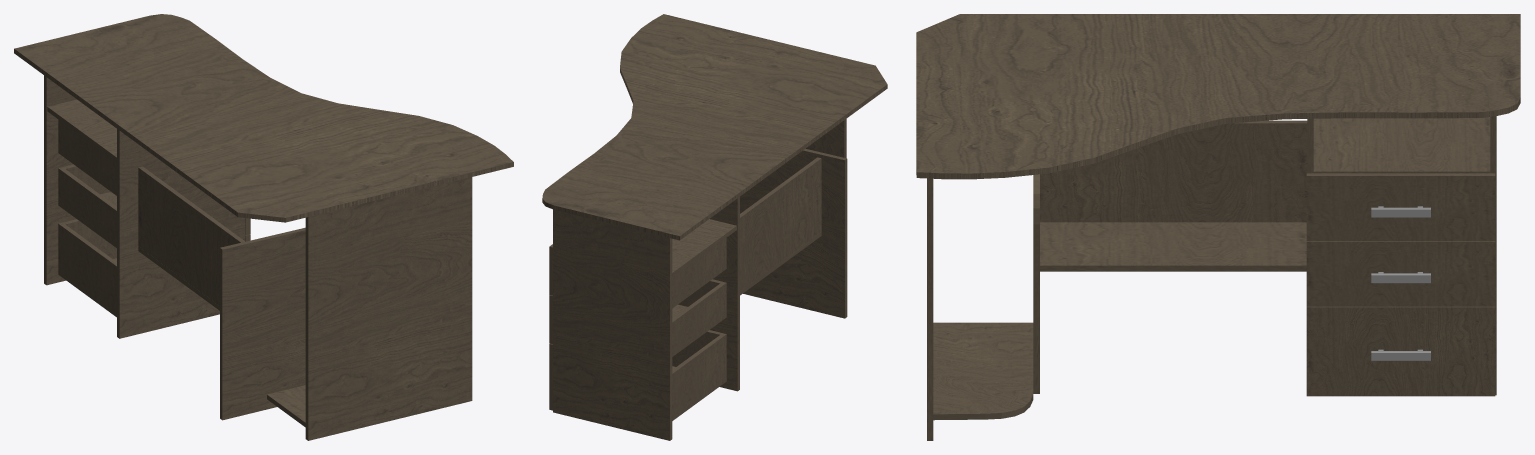
Rendered from table.FBX.
3 renders of one model, left to right at view 1: azimuth 30°, elevation 25°; view 2: azimuth 150°, elevation 25°; view 3: azimuth 270°, elevation 25°, orthographic. The views are drawn at different scales.
Visible parts, largest first — view 1: table, box1, box2, box3; view 2: table, box1, box2, box3; view 3: table, box1, box3, box2, handle3, handle2, handle1.
Part boxes in pixels (bbox=[...]): table: bbox=[14, 14, 513, 440]; box1: bbox=[58, 219, 250, 317]; box2: bbox=[58, 164, 250, 247]; box3: bbox=[58, 120, 116, 195]; table: bbox=[542, 14, 887, 440]; box1: bbox=[549, 330, 726, 420]; box2: bbox=[549, 279, 726, 356]; box3: bbox=[549, 238, 726, 308]; table: bbox=[916, 14, 1520, 440]; box1: bbox=[1306, 306, 1495, 396]; box3: bbox=[1306, 173, 1495, 240]; box2: bbox=[1306, 241, 1495, 306]; handle3: bbox=[1371, 206, 1430, 217]; handle2: bbox=[1371, 272, 1430, 283]; handle1: bbox=[1371, 349, 1430, 360].
Size of the model in its own units: 87.42 by 74.5 by 140.
2 materials, 1 textured.
